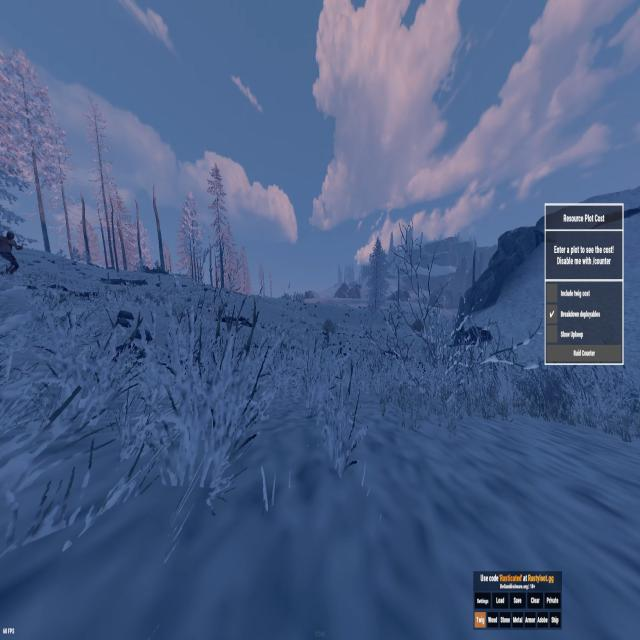Player: (0, 230, 23, 276), (322, 327, 330, 346)
